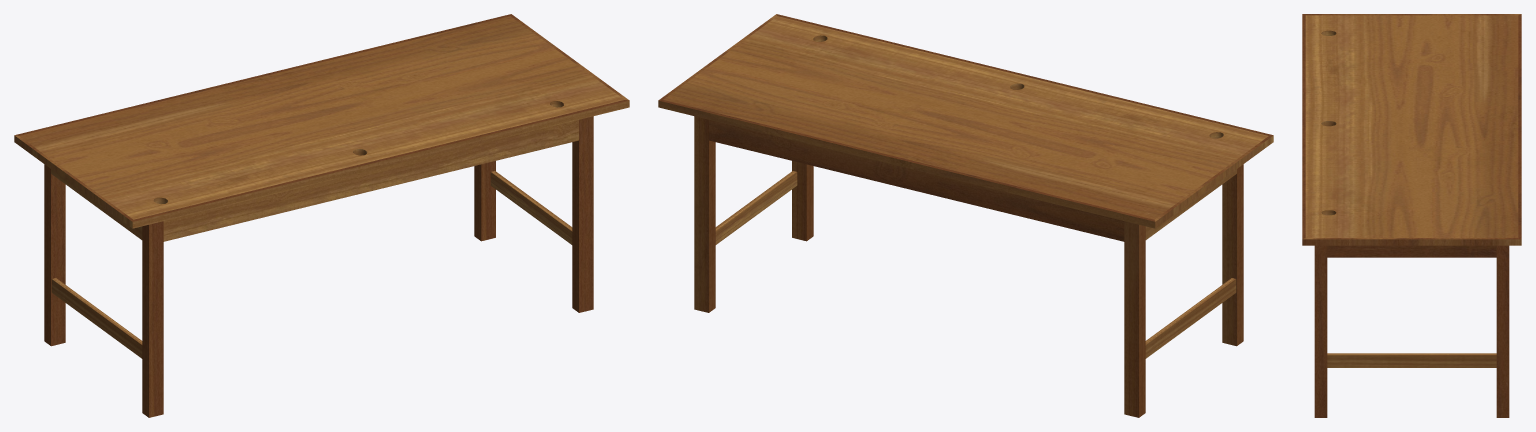
File: Table_01_tight.dae
3 views of the same model, side by side, from view 1: azimuth 30°, elevation 25°; view 2: azimuth 150°, elevation 25°; view 3: azimuth 270°, elevation 25° (orthographic). The views are drawn at different scales.
Visible parts, largest first — view 1: Table_01; view 2: Table_01; view 3: Table_01.
Boxes of the visible parts, x1=… form: Table_01: x1=14, y1=14, x2=629, y2=417; Table_01: x1=658, y1=14, x2=1273, y2=417; Table_01: x1=1302, y1=14, x2=1521, y2=417.
Size of the model in its own units: 1.9 by 0.783 by 0.755.
1 material, 1 textured.
